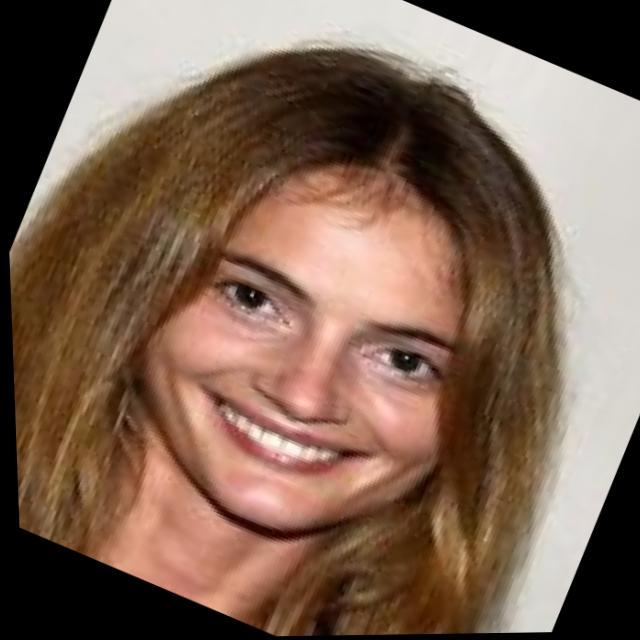Nonhelmet: (104, 35, 572, 551)
